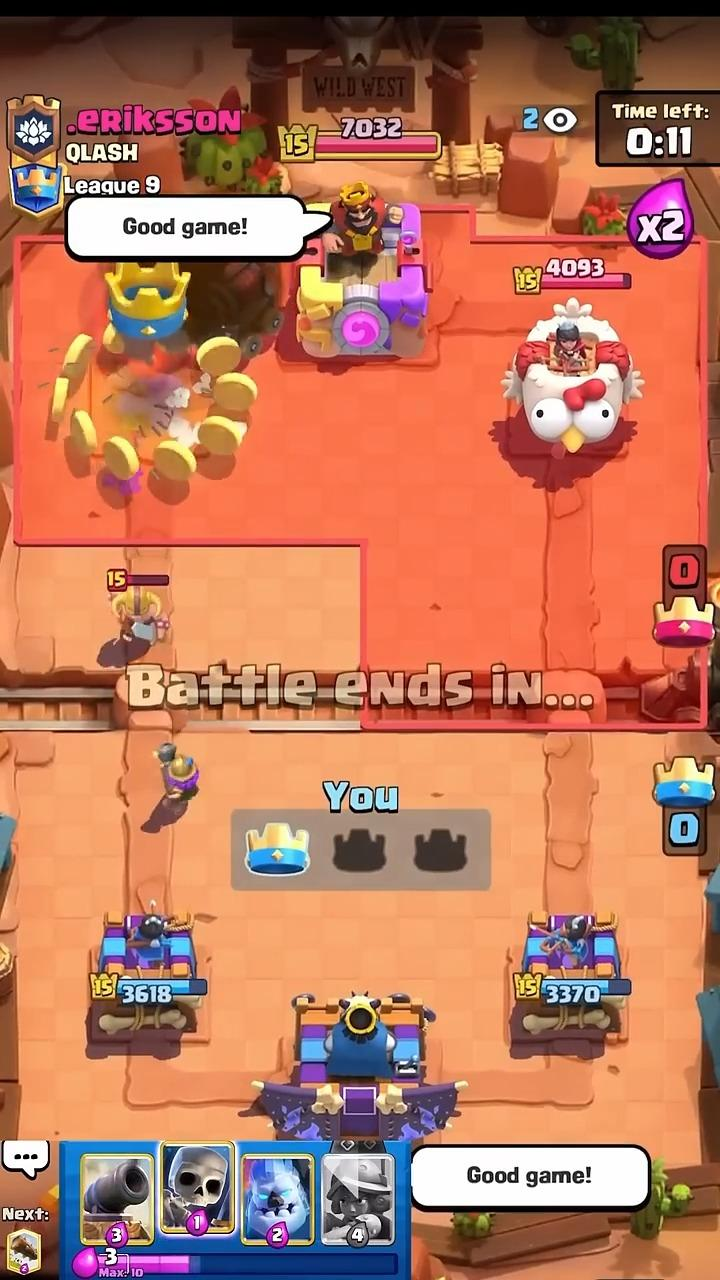elite barbarians: (111, 586, 168, 652)
musketeer: (162, 744, 198, 804)
sparky: (185, 261, 283, 360)
